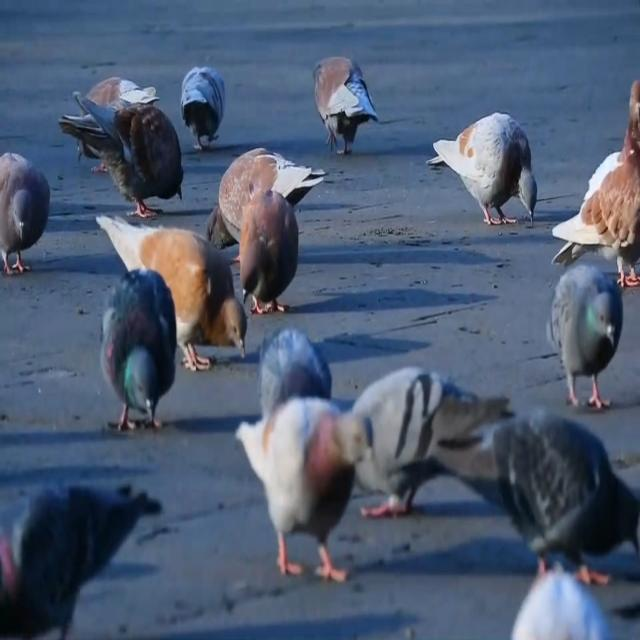bird: (219, 377, 387, 626), (435, 399, 640, 601), (331, 340, 515, 538), (78, 190, 256, 382), (0, 461, 174, 639), (547, 62, 640, 298), (53, 67, 189, 223), (84, 252, 187, 451), (535, 239, 634, 427), (423, 92, 544, 239), (223, 178, 320, 342), (199, 137, 327, 242), (299, 33, 381, 165), (249, 314, 347, 420), (0, 123, 56, 283), (169, 43, 241, 155), (60, 60, 152, 140)
